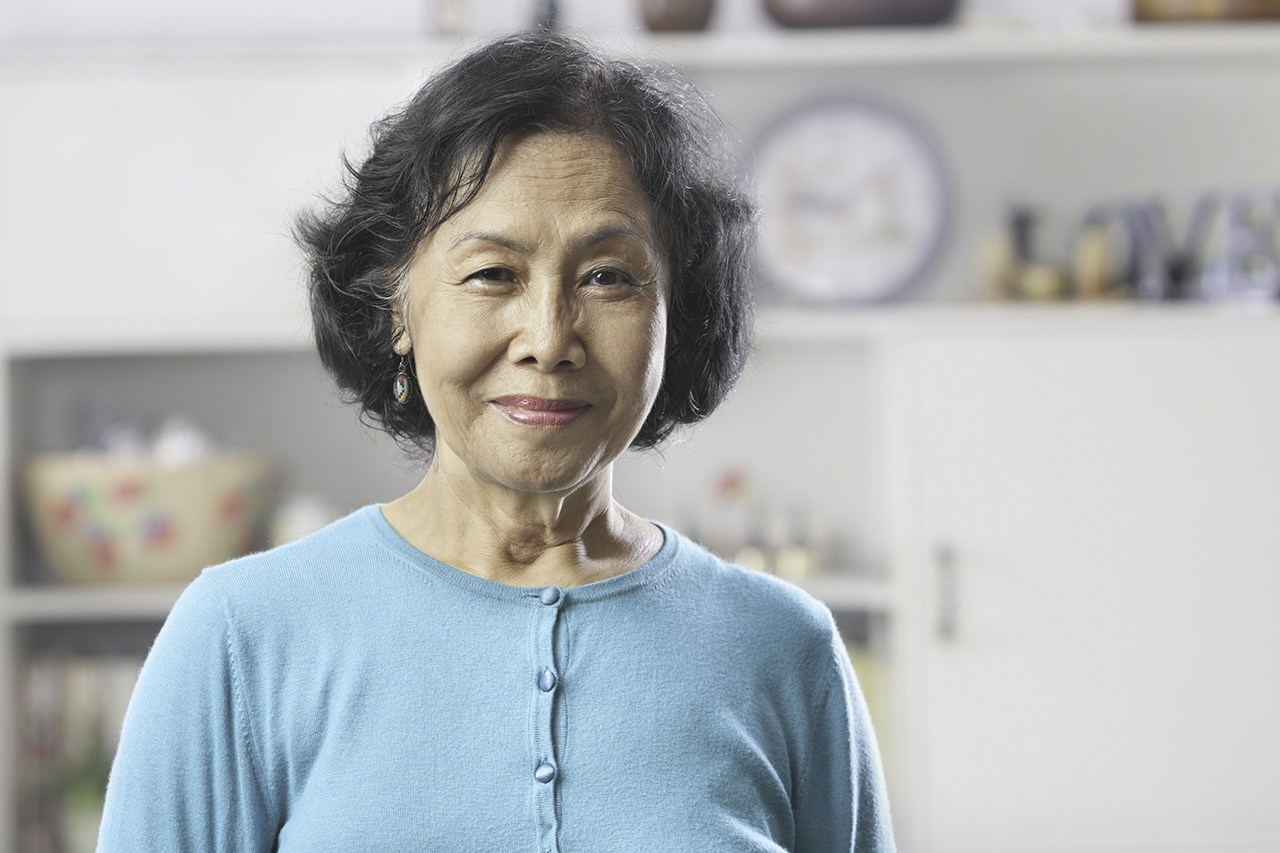bare: (405, 310, 665, 494)
